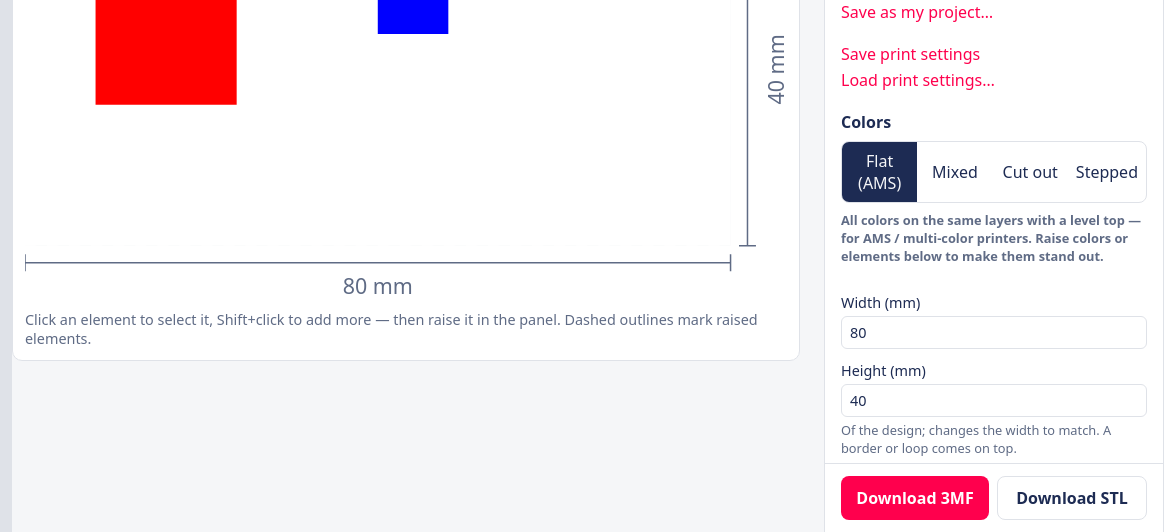
Scenario: PrintStep › plans filament changes for stepped colors
(page scrolled)
expect the button "Filament changes" is not shown: met
Click the radio button labelled "Stepped". click: [1107, 172]
box: [1068, 142, 1146, 202]
(page scrolled)
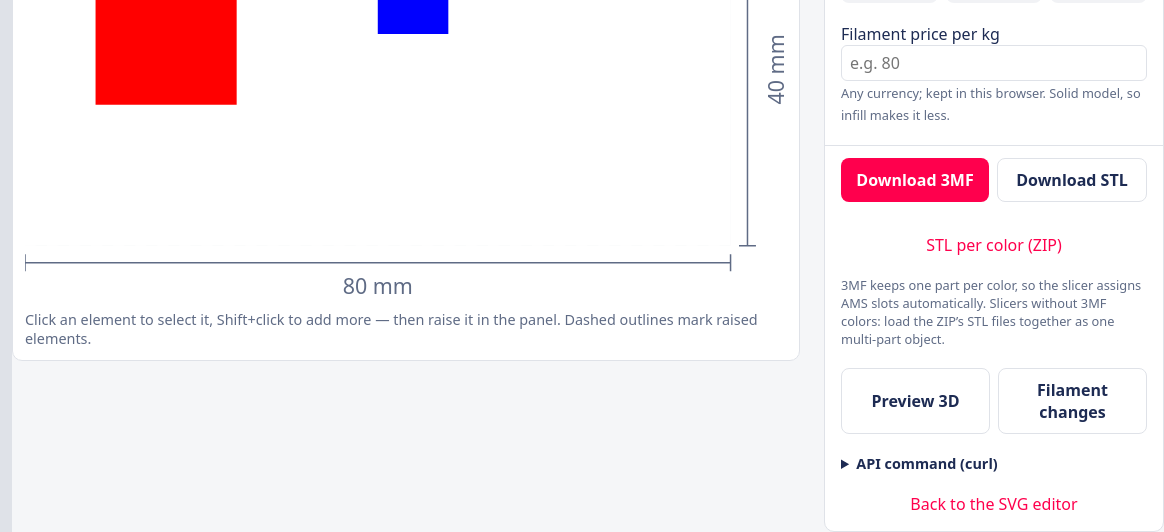
Click the button "Filament changes". click: [1072, 401]
box: [998, 368, 1147, 434]
(page scrolled)
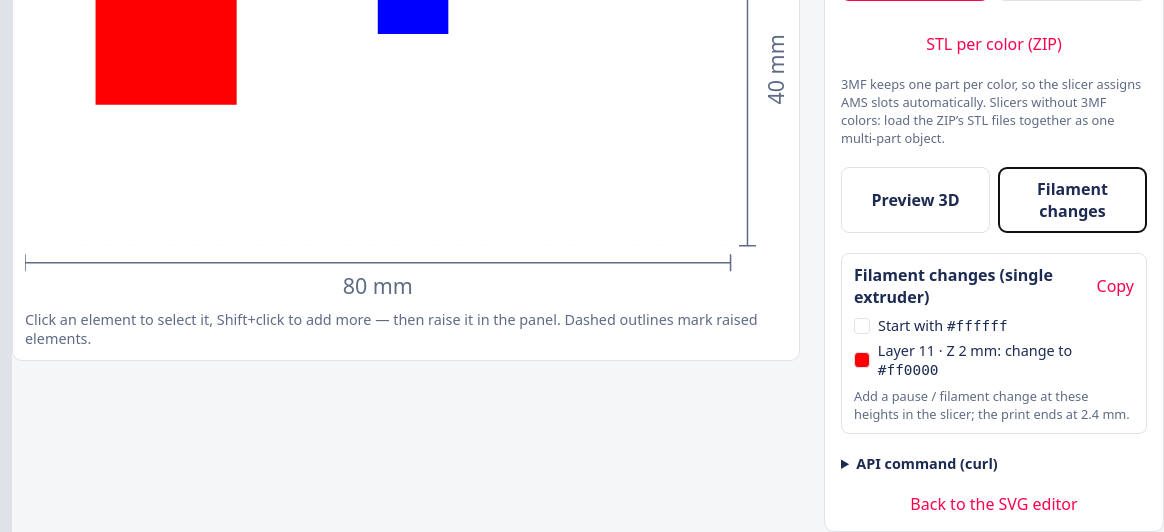
expect the element "Filament changes" is shown: met, box [841, 253, 1147, 434]
